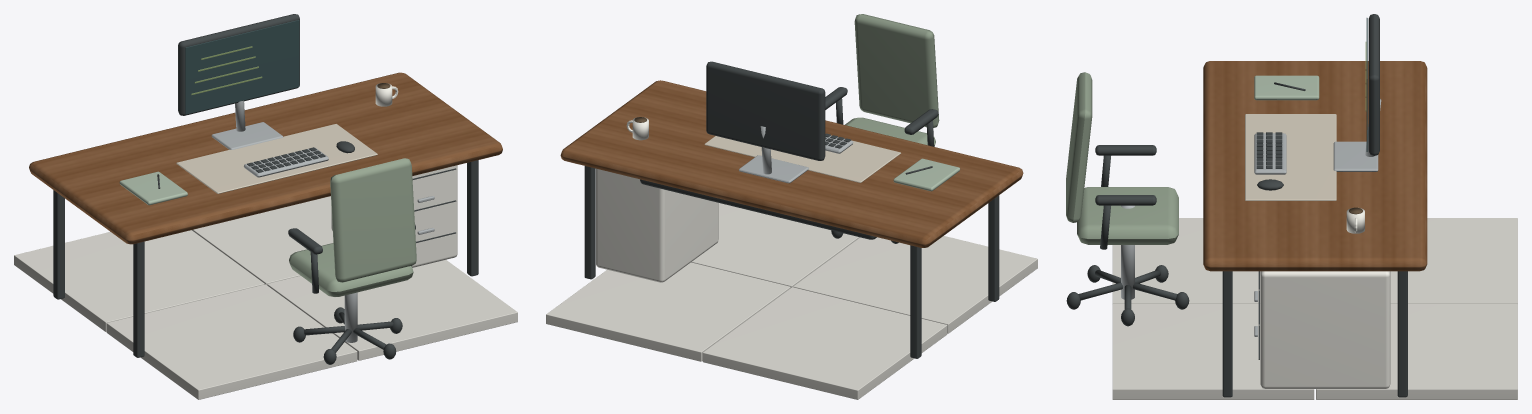
The model's file is workstation.glb.
3 views of the same model, side by side, from view 1: azimuth 30°, elevation 25°; view 2: azimuth 150°, elevation 25°; view 3: azimuth 270°, elevation 25° (orthographic). The views are drawn at different scales.
Visible parts, largest first — view 1: Oak worktop 0, Limestone tile.103, Limestone tile.104, Limestone tile.119, Ergonomic backrest, Monitor panel, Limestone tile.120, Desk mat, Desk pedestal, Seat cushion, Monitor housing, Desk frame.002 (+6 smaller); view 2: Oak worktop 0, Limestone tile.104, Limestone tile.120, Limestone tile.103, Desk pedestal, Monitor housing, Ergonomic backrest, Limestone tile.119, Desk mat, Desk frame.003, Desk frame.001, Notebook (+4 smaller); view 3: Oak worktop 0, Desk pedestal, Limestone tile.119, Limestone tile.120, Limestone tile.104, Desk mat, Limestone tile.103, Seat cushion, Ergonomic backrest, Monitor housing, Notebook, Desk frame.002 (+6 smaller).
Part boxes in pixels (x1,y1,x2,y2): Oak worktop 0: (29,72,502,244); Limestone tile.103: (106,284,357,399); Limestone tile.104: (14,230,264,331); Limestone tile.119: (267,260,517,360); Ergonomic backrest: (330,158,416,282); Monitor panel: (185,20,299,114); Limestone tile.120: (192,196,333,284); Desk mat: (176,124,377,193); Desk pedestal: (331,165,457,267); Seat cushion: (289,243,413,296); Monitor housing: (178,14,299,115); Desk frame.002: (467,160,478,276); Oak worktop 0: (560,80,1023,247); Limestone tile.104: (702,287,947,399); Limestone tile.120: (546,262,790,361); Limestone tile.103: (793,236,1037,333); Desk pedestal: (596,168,718,282); Monitor housing: (706,61,825,160); Ergonomic backrest: (854,14,939,127); Limestone tile.119: (691,203,859,287); Desk mat: (704,136,900,182); Desk frame.003: (584,166,595,279); Desk frame.001: (910,245,921,358); Notebook: (893,158,960,191); Oak worktop 0: (1203,61,1427,271); Desk pedestal: (1260,271,1390,388); Limestone tile.119: (1112,304,1314,399); Limestone tile.120: (1316,304,1517,399); Limestone tile.104: (1390,218,1517,303); Desk mat: (1245,114,1336,200); Limestone tile.103: (1112,218,1260,303); Seat cushion: (1077,187,1178,244); Ergonomic backrest: (1066,72,1092,222); Monitor housing: (1368,14,1379,155); Notebook: (1254,75,1319,100); Desk frame.002: (1222,271,1232,397).
Bounding box in the file's own units: 2.35 × 1.47 × 2.22.
12 materials, 1 textured.
